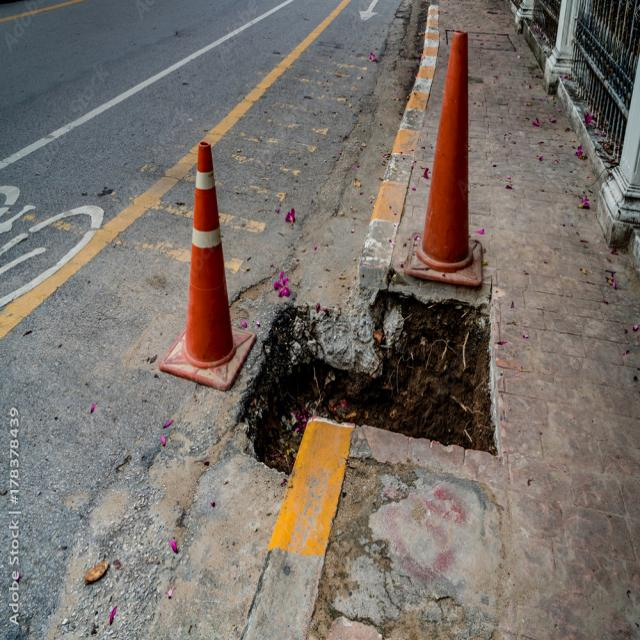Pothole: (225, 232, 523, 640)
